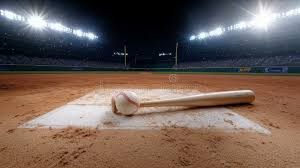baseball bat: (137, 88, 260, 110)
